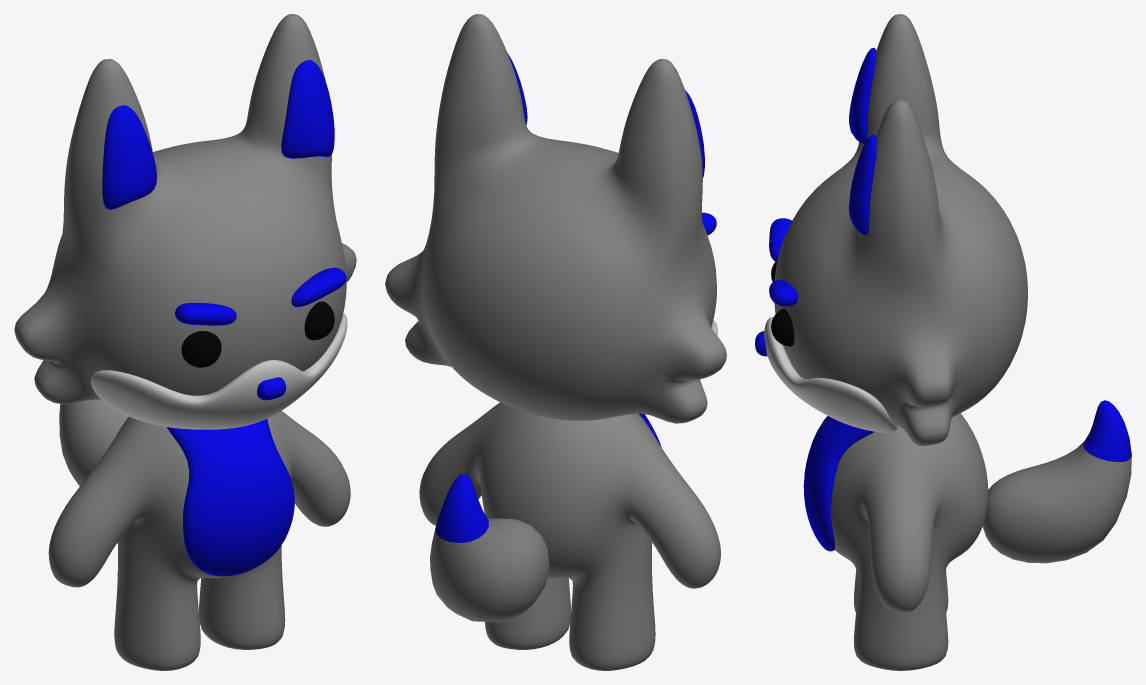
Rendered from WolfBlue.fbx.
3 views of the same model, side by side, from view 1: azimuth 30°, elevation 25°; view 2: azimuth 150°, elevation 25°; view 3: azimuth 270°, elevation 25° (orthographic). The views are drawn at different scales.
Parts seen in each view (by area): view 1: Cube.001; view 2: Cube.001; view 3: Cube.001.
Boxes of the visible parts, left/top/right/bottom form: Cube.001: left=14, top=14, right=356, bottom=670; Cube.001: left=385, top=14, right=726, bottom=670; Cube.001: left=755, top=14, right=1131, bottom=670.
Size of the model in its own units: 233 by 404 by 238.
